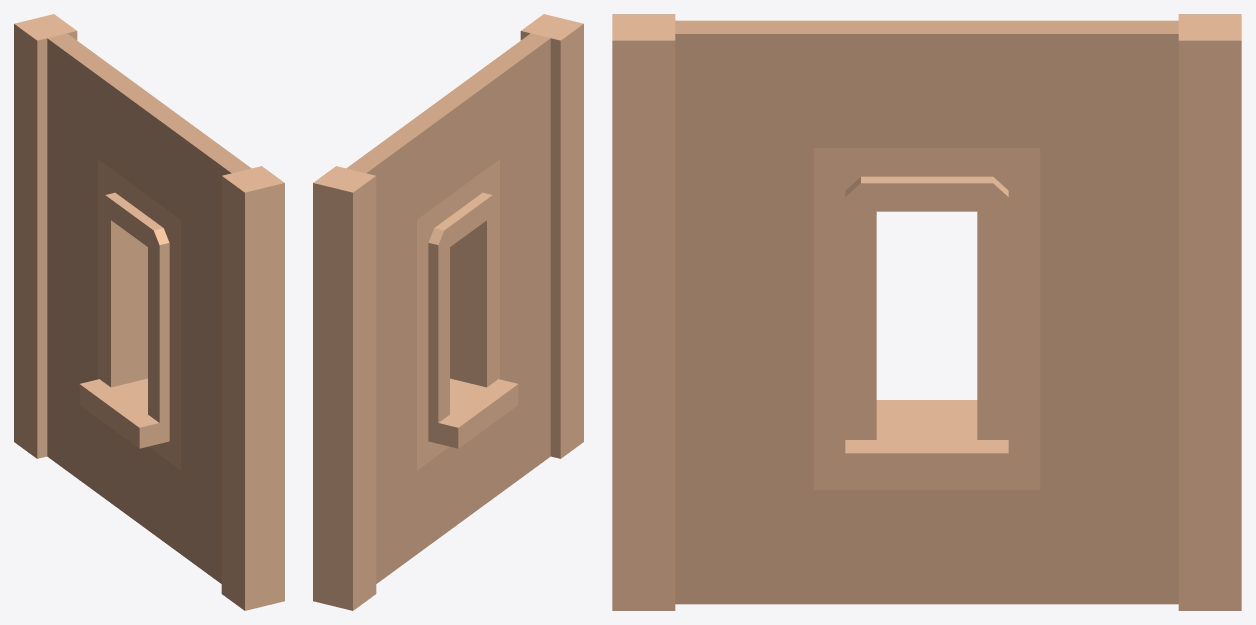
Rendered from wallWoodWindowSmall.glb.
3 views of the same model, side by side, from view 1: azimuth 30°, elevation 25°; view 2: azimuth 150°, elevation 25°; view 3: azimuth 270°, elevation 25° (orthographic). The views are drawn at different scales.
Visible parts, largest first — view 1: wallWoodWindowSmall; view 2: wallWoodWindowSmall; view 3: wallWoodWindowSmall.
Part boxes in pixels (box(x1,y1,x2,y2)): wallWoodWindowSmall: box(14, 14, 284, 610); wallWoodWindowSmall: box(313, 14, 583, 610); wallWoodWindowSmall: box(612, 14, 1241, 610).
Size of the model in its own units: 0.2 by 1 by 1.
